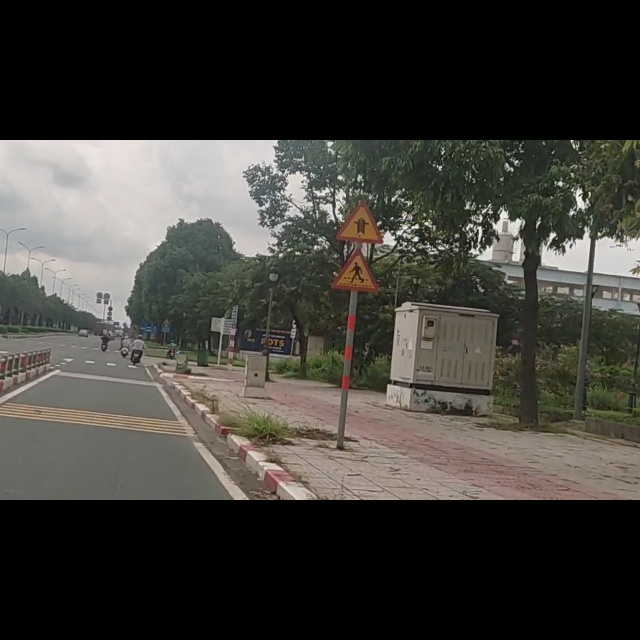bien_cam: (335, 101, 384, 185), (330, 193, 381, 271)
